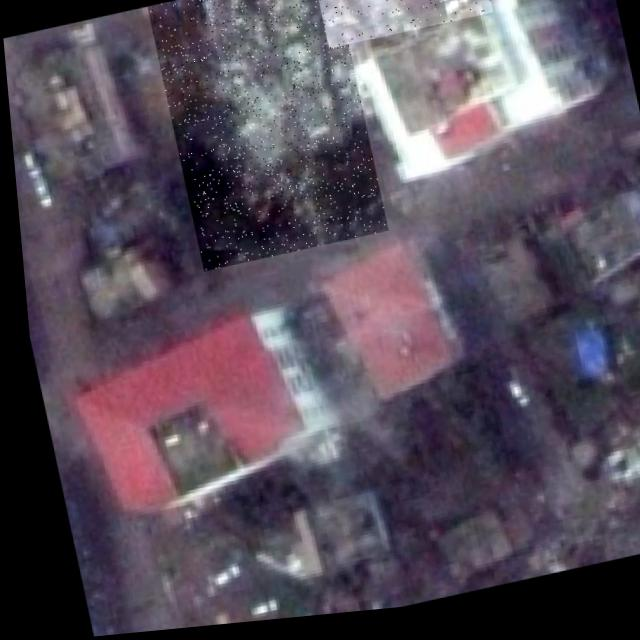Rubble: (145, 0, 385, 276), (311, 0, 492, 54)
